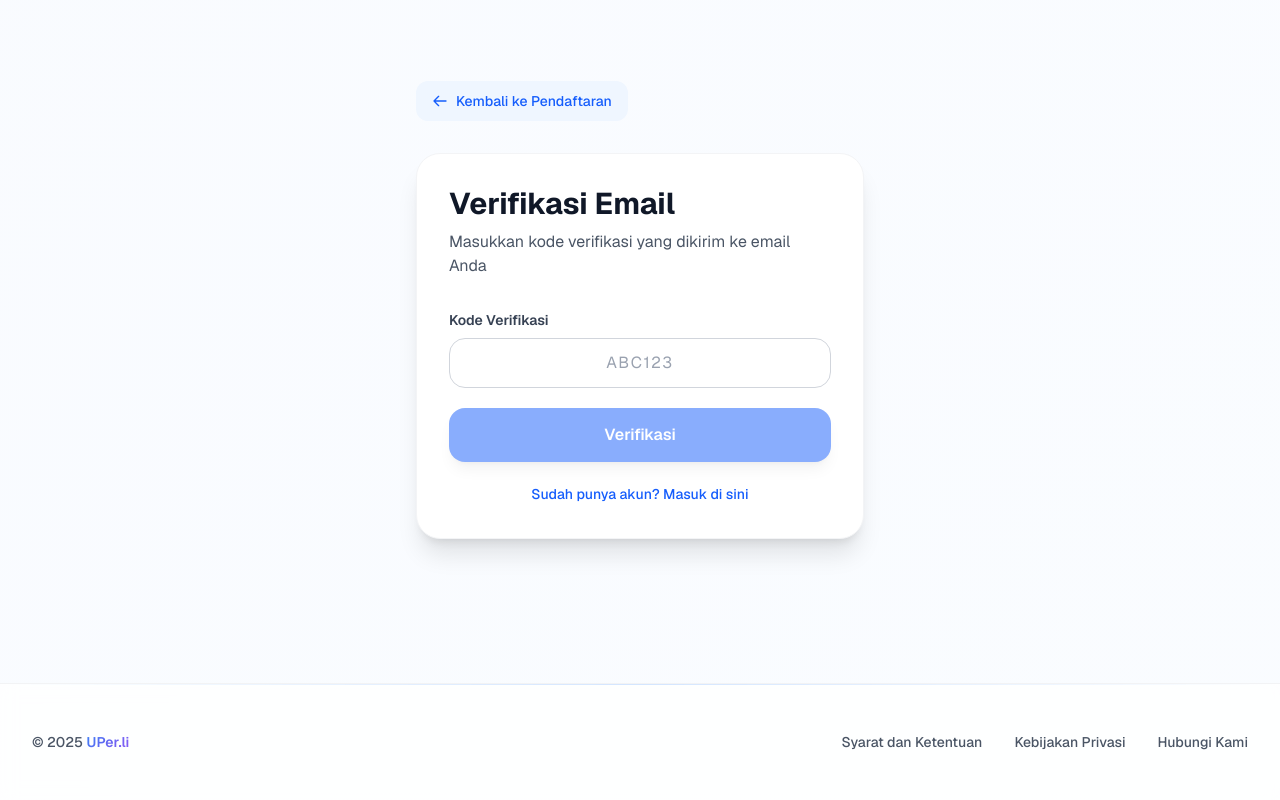
Test: VerifyPage › handles session expiry during submission
The width and height of the screenshot is (1280, 800).
Enter code
Type "123456" into the field with placeholder "ABC123" at (640, 362), box [449,338,831,388]
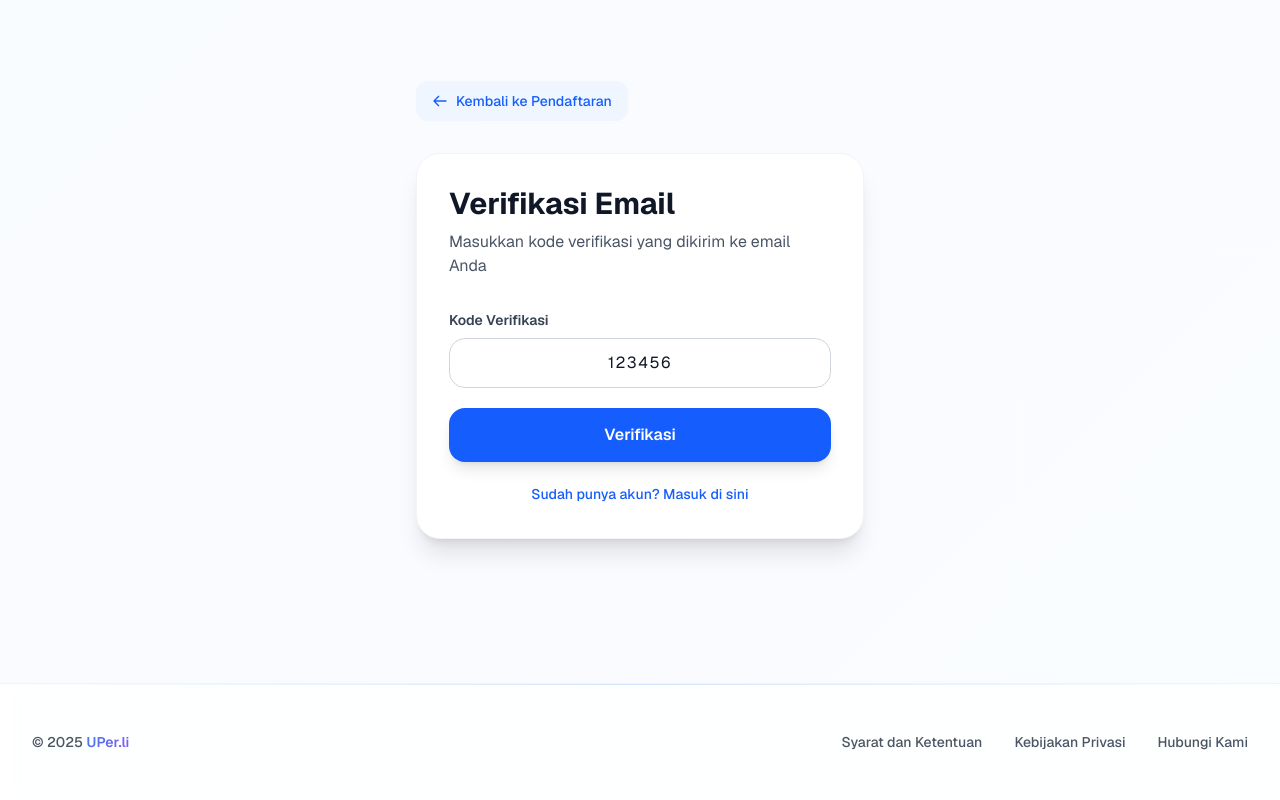
Click the button "Verifikasi" at (640, 434), box [449,408,831,462]
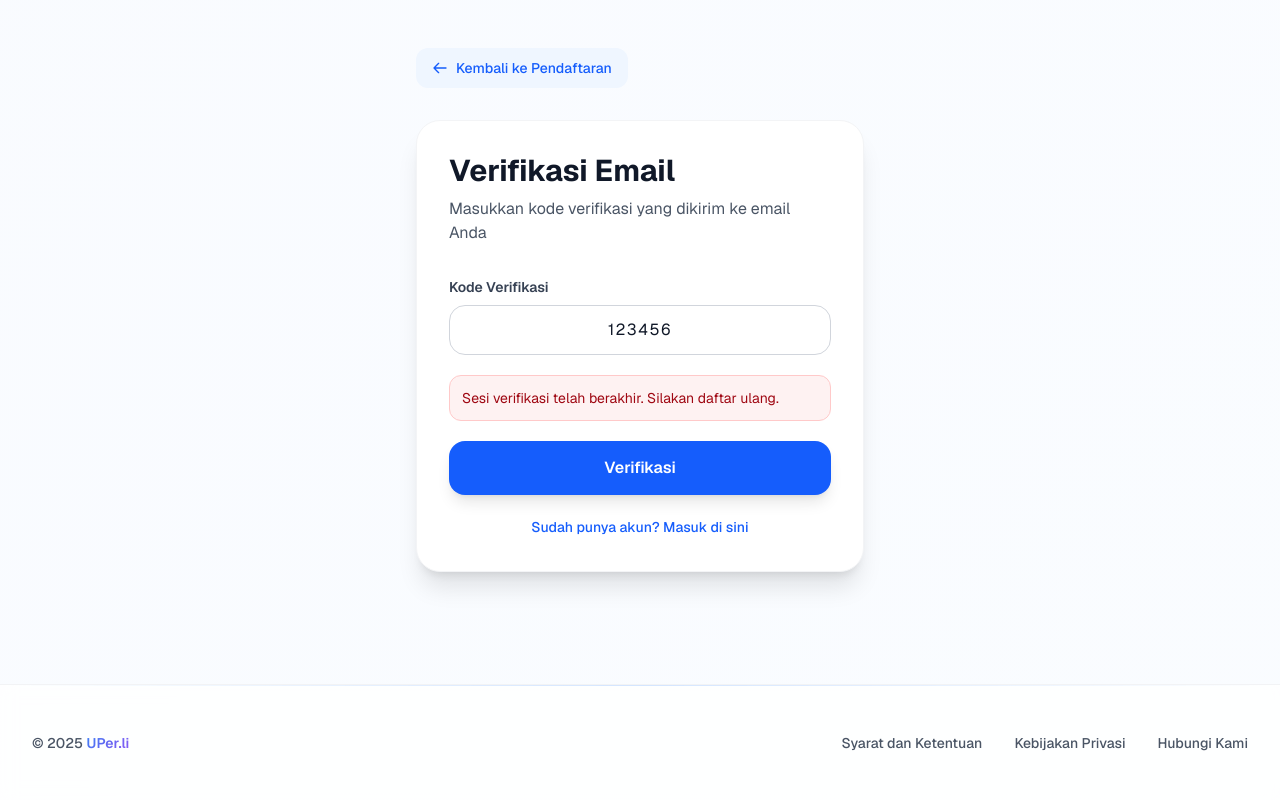
Now the text "Sesi verifikasi telah berakhir. Silakan daftar ulang." is shown, box [462,388,818,408]
